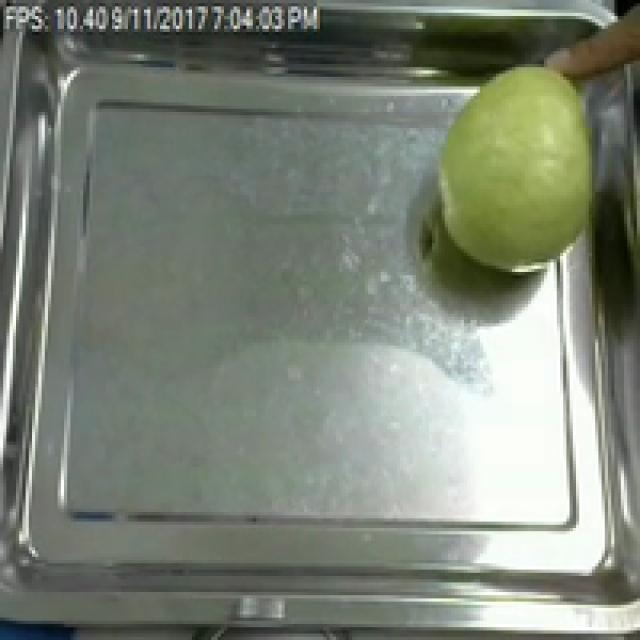Fruit: (419, 48, 624, 288)
